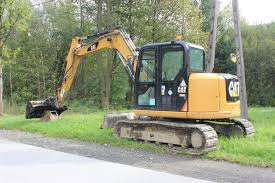excavator: (25, 28, 255, 158)
